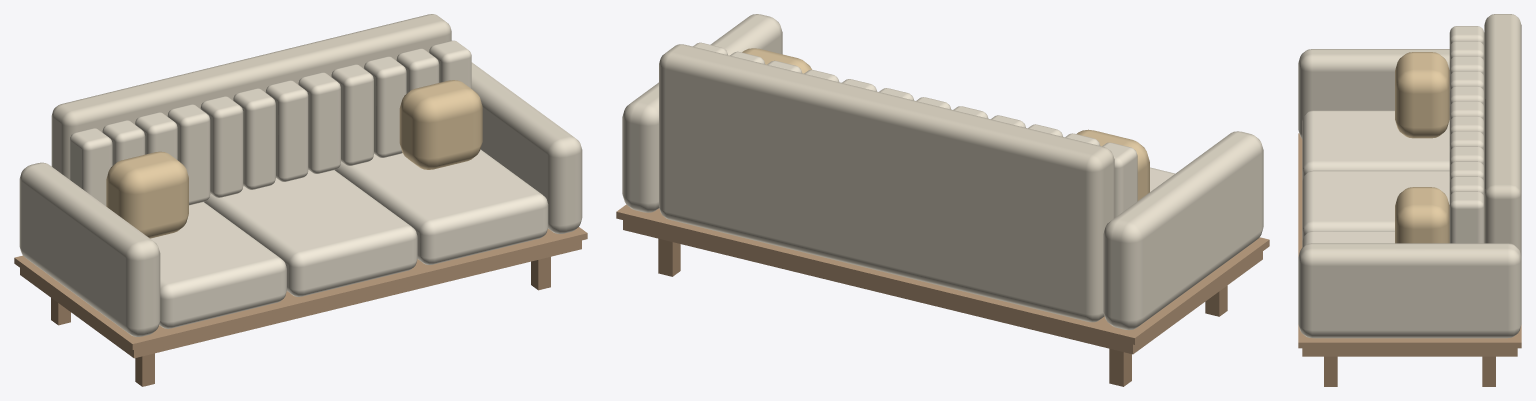
3 renders of one model, left to right at view 1: azimuth 30°, elevation 25°; view 2: azimuth 150°, elevation 25°; view 3: azimuth 270°, elevation 25°, orthographic. The views are drawn at different scales.
Parts seen in each view (by area): view 1: SeatCushions, BackCushions, Arms, Back, BaseRail, Pillows, Legs; view 2: Back, Arms, BaseRail, BackCushions, Legs, Pillows; view 3: Arms, SeatCushions, Back, BackCushions, Pillows, BaseRail, Legs.
Part boxes in pixels (x1=…): SeatCushions: x1=150, y1=149, x2=548, y2=328; BackCushions: x1=69, y1=40, x2=471, y2=205; Arms: x1=19, y1=62, x2=582, y2=336; Back: x1=51, y1=14, x2=451, y2=179; BaseRail: x1=14, y1=227, x2=587, y2=358; Pillows: x1=106, y1=80, x2=482, y2=238; Legs: x1=51, y1=257, x2=550, y2=386; Back: x1=659, y1=44, x2=1114, y2=322; Arms: x1=622, y1=14, x2=1263, y2=330; BaseRail: x1=616, y1=204, x2=1269, y2=354; BackCushions: x1=693, y1=42, x2=1137, y2=217; Legs: x1=658, y1=238, x2=1227, y2=386; Pillows: x1=742, y1=48, x2=1149, y2=200; Arms: x1=1298, y1=49, x2=1521, y2=338; SeatCushions: x1=1302, y1=110, x2=1449, y2=247; Back: x1=1484, y1=14, x2=1521, y2=256; BackCushions: x1=1449, y1=26, x2=1484, y2=243; Pillows: x1=1395, y1=52, x2=1449, y2=243; BaseRail: x1=1298, y1=133, x2=1521, y2=356; Legs: x1=1324, y1=356, x2=1495, y2=386.
Size of the model in its own units: 2 by 0.86 by 0.9.
